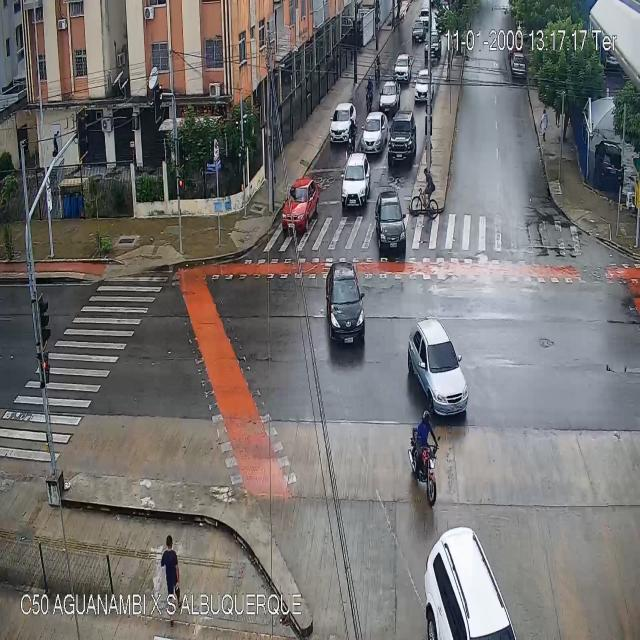Car: (422, 527, 515, 639), (408, 318, 468, 417), (325, 263, 366, 350), (284, 179, 320, 233), (376, 190, 406, 252), (340, 153, 370, 204), (388, 111, 416, 165), (361, 112, 388, 154), (330, 102, 355, 142), (414, 68, 434, 104), (379, 80, 401, 111), (424, 32, 441, 62), (394, 54, 412, 82), (511, 52, 526, 78), (412, 18, 424, 42), (418, 8, 429, 28)
Motorcycle: (407, 408, 441, 505), (364, 76, 374, 111), (348, 118, 356, 154), (374, 53, 380, 84)
